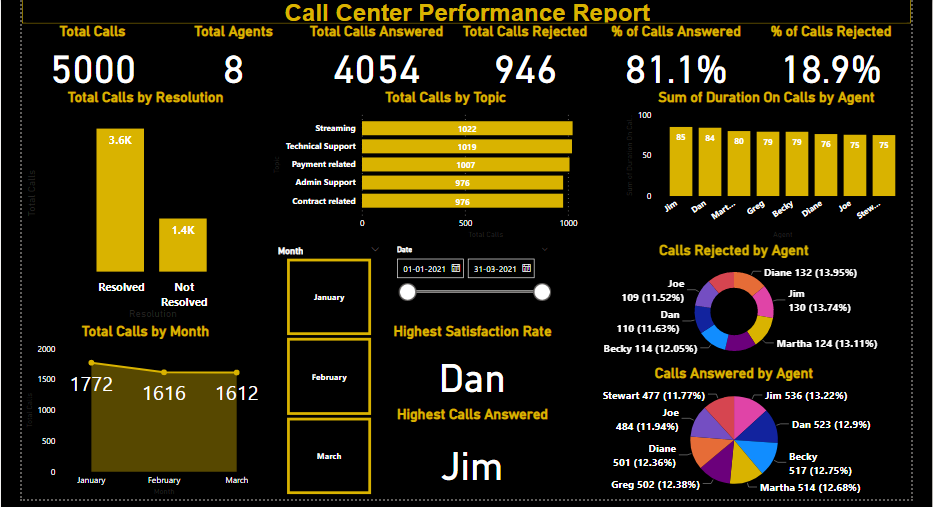

Layout of this report page (visuals, bound fields, positions):
{"tool":"powerbi","page":{"name":"Page 1","canvas":[1280,720],"ordinal":0},"visuals":[{"type":"card","title":"Total Calls","fields":{"Values":["Performance.Total Calls"]},"box":[0,34.6,203,95],"z":0},{"type":"card","title":"Total Agents","fields":{"Values":["Performance.Agent"]},"box":[203,34.6,203,95],"z":1000},{"type":"card","title":"Total Calls Answered","fields":{"Values":["Performance.Calls Answered"]},"box":[406.1,34.6,208.8,95],"z":2000},{"type":"card","title":"Total Calls Rejected ","fields":{"Values":["Performance.Calls Rejected"]},"box":[614.9,34.6,218.9,95],"z":3000},{"type":"card","title":"% of Calls Answered","fields":{"Values":["Performance.% of Calls Answered"]},"box":[833.8,34.6,216,95],"z":4000},{"type":"card","title":"% of Calls Rejected","fields":{"Values":["Performance.% of Calls Rejected"]},"box":[1049.8,34.6,230.4,95],"z":5000},{"type":"columnChart","fields":{"Y":["Performance.Total Calls"],"Category":["Performance.Resolution"]},"box":[0,129.6,355.7,337],"z":6000},{"type":"card","title":"Highest Calls Answered","fields":{"Values":["Performance.Agent"]},"box":[527,586.1,243.4,133.9],"z":7000},{"type":"card","title":"Highest Satisfaction Rate","fields":{"Values":["Performance.Agent"]},"box":[527,466.6,243.4,119.5],"z":8000},{"type":"barChart","fields":{"Category":["Performance.Topic"],"Y":["Performance.Total Calls"]},"box":[355.7,129.6,508.3,220.3],"z":9000},{"type":"columnChart","fields":{"Y":["Performance.Duration On Calls"],"Category":["Performance.Agent"]},"box":[864,129.6,416.2,220.3],"z":10000},{"type":"areaChart","fields":{"Y":["Performance.Total Calls"],"Category":["Performance.Date.Variation.Date Hierarchy.Month"]},"box":[0,466.6,355.7,253.4],"z":11000},{"type":"slicer","fields":{"Values":["Performance.Date.Variation.Date Hierarchy.Month"]},"box":[355.7,349.9,171.4,370.1],"z":12000},{"type":"slicer","fields":{"Values":["Performance.Date"]},"box":[527,349.9,243.4,116.6],"z":13000},{"type":"pieChart","title":"Calls Answered by Agent","fields":{"Category":["Performance.Agent"],"Y":["Performance.Calls Answered"]},"box":[770.4,527,509.8,193],"z":14000},{"type":"donutChart","title":"Calls Rejected by Agent","fields":{"Category":["Performance.Agent"],"Y":["Performance.Calls Rejected"]},"box":[770.4,349.9,509.8,177.1],"z":15000},{"type":"textbox","title":"Call Center Performance Report","box":[0,0,1280.2,34.6],"z":16000}]}

Visuals, with their boxes on the page's 1280x720 design canvas (x1, y1, x2, y2). These are canvas units, not pixel positions in the 933x507 screenshot, which may show the page scaled, cropped or inside an application window:
"Total Calls" card: locate(0, 35, 203, 130)
"Total Agents" card: locate(203, 35, 406, 130)
"Total Calls Answered" card: locate(406, 35, 615, 130)
"Total Calls Rejected " card: locate(615, 35, 834, 130)
"% of Calls Answered" card: locate(834, 35, 1050, 130)
"% of Calls Rejected" card: locate(1050, 35, 1280, 130)
columnChart - Performance.Total Calls x Performance.Resolution: locate(0, 130, 356, 467)
"Highest Calls Answered" card: locate(527, 586, 770, 720)
"Highest Satisfaction Rate" card: locate(527, 467, 770, 586)
barChart - Performance.Topic x Performance.Total Calls: locate(356, 130, 864, 350)
columnChart - Performance.Duration On Calls x Performance.Agent: locate(864, 130, 1280, 350)
areaChart - Performance.Total Calls x Performance.Date.Variation.Date Hierarchy.Month: locate(0, 467, 356, 720)
slicer - Performance.Date.Variation.Date Hierarchy.Month: locate(356, 350, 527, 720)
slicer - Performance.Date: locate(527, 350, 770, 466)
"Calls Answered by Agent" pieChart: locate(770, 527, 1280, 720)
"Calls Rejected by Agent" donutChart: locate(770, 350, 1280, 527)
"Call Center Performance Report" textbox: locate(0, 0, 1280, 35)
